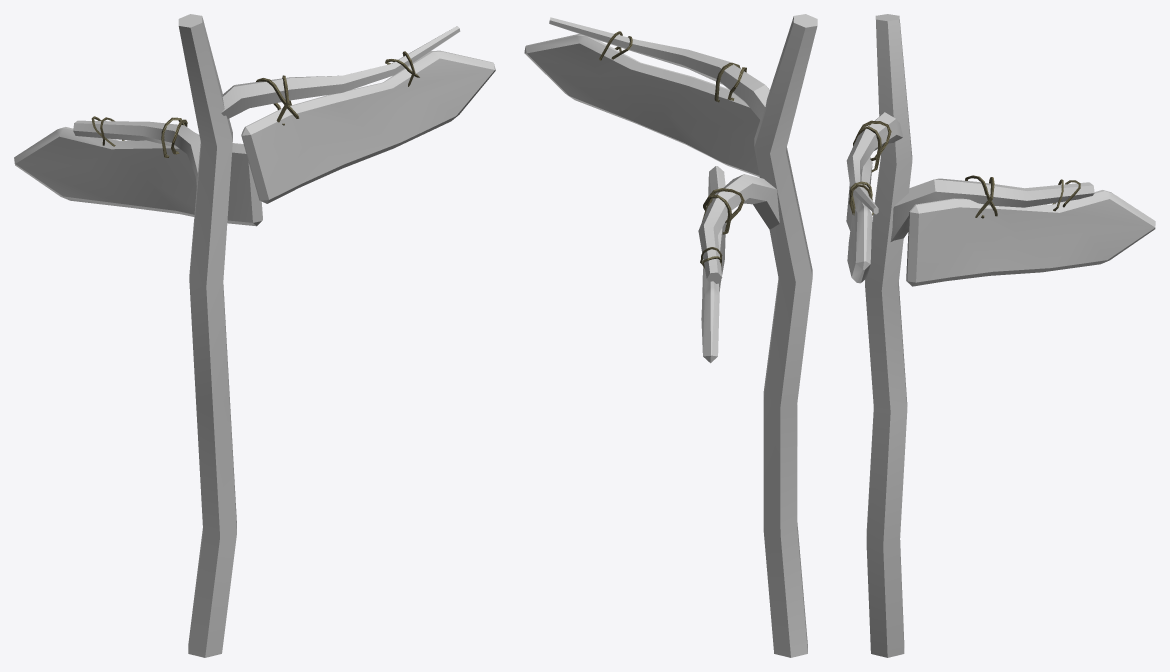
Rendered from Sign.fbx.
3 renders of one model, left to right at view 1: azimuth 30°, elevation 25°; view 2: azimuth 150°, elevation 25°; view 3: azimuth 270°, elevation 25°, orthographic.
Parts seen in each view (by area): view 1: Road_Sign; view 2: Road_Sign; view 3: Road_Sign.
Boxes of the visible parts, x1,y1,x2,y2 form: Road_Sign: (14, 14, 495, 657); Road_Sign: (524, 14, 817, 657); Road_Sign: (846, 14, 1155, 657).
Size of the model in its own units: 589 by 1060 by 474.
